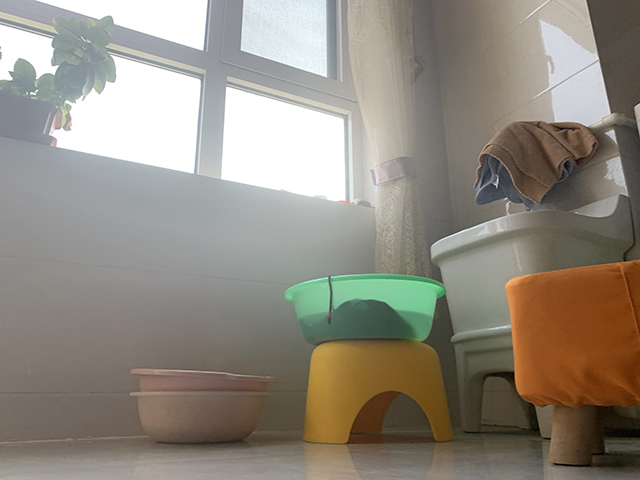curtain: (347, 3, 431, 275)
stool: (503, 258, 640, 470), (301, 339, 456, 445)
